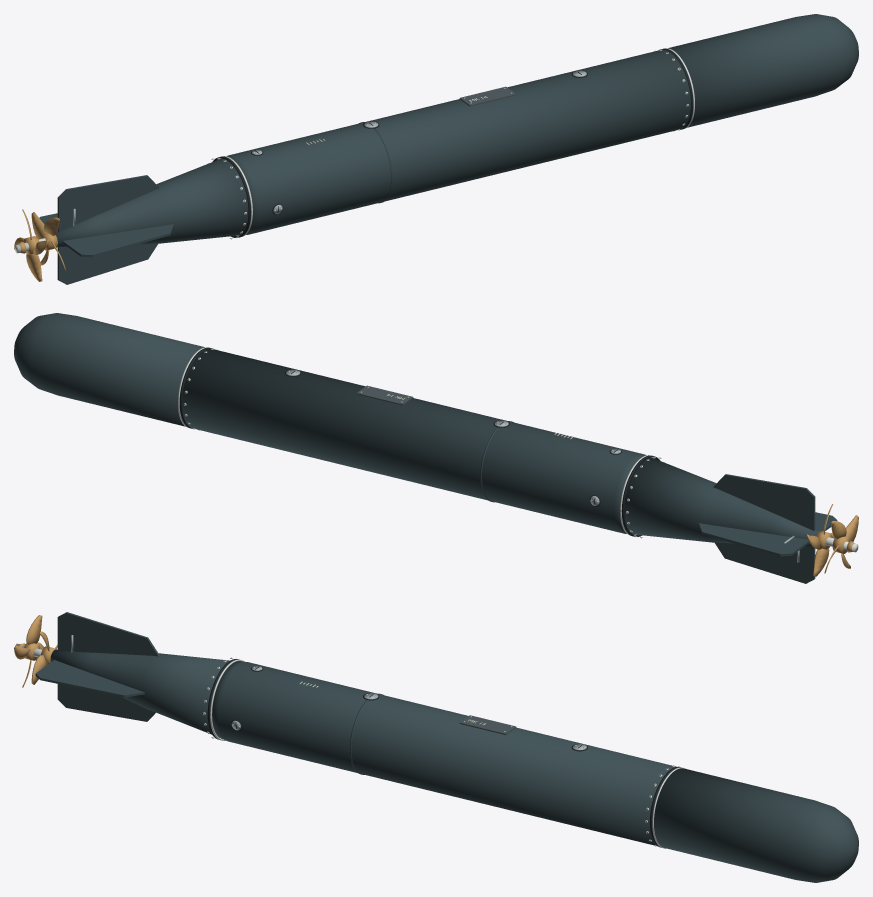
The picture shows the model from 3 angles, top to bottom: view 1: azimuth 30°, elevation 25°; view 2: azimuth 150°, elevation 25°; view 3: azimuth 330°, elevation 25°; orthographic projection.
Visible parts, largest first — view 1: Body_Sections.012_Torpedo_Navy_Graphite.002, Tail_Assembly.012_Torpedo_Navy_Graphite.002, Flush_Surface_Details.012_Torpedo_Recessed_Joints.002, Propeller_A.012_Torpedo_Propeller_Bronze.002, Propeller_B.012_Torpedo_Propeller_Bronze.002, Flush_Surface_Details.012_Torpedo_Machined_Edges.002, Flush_Surface_Details.012_Torpedo_Blackened_Steel.002; view 2: Body_Sections.012_Torpedo_Navy_Graphite.002, Tail_Assembly.012_Torpedo_Navy_Graphite.002, Flush_Surface_Details.012_Torpedo_Recessed_Joints.002, Propeller_B.012_Torpedo_Propeller_Bronze.002, Propeller_A.012_Torpedo_Propeller_Bronze.002, Flush_Surface_Details.012_Torpedo_Machined_Edges.002, Flush_Surface_Details.012_Torpedo_Blackened_Steel.002; view 3: Body_Sections.012_Torpedo_Navy_Graphite.002, Tail_Assembly.012_Torpedo_Navy_Graphite.002, Flush_Surface_Details.012_Torpedo_Recessed_Joints.002, Propeller_B.012_Torpedo_Propeller_Bronze.002, Flush_Surface_Details.012_Torpedo_Machined_Edges.002, Flush_Surface_Details.012_Torpedo_Blackened_Steel.002.
Part boxes in pixels (<box>): Body_Sections.012_Torpedo_Navy_Graphite.002: <box>56,14,858,247</box>; Tail_Assembly.012_Torpedo_Navy_Graphite.002: <box>39,175,173,284</box>; Flush_Surface_Details.012_Torpedo_Recessed_Joints.002: <box>212,48,693,239</box>; Propeller_A.012_Torpedo_Propeller_Bronze.002: <box>31,212,65,270</box>; Propeller_B.012_Torpedo_Propeller_Bronze.002: <box>14,209,48,281</box>; Flush_Surface_Details.012_Torpedo_Machined_Edges.002: <box>207,48,694,238</box>; Flush_Surface_Details.012_Torpedo_Blackened_Steel.002: <box>459,86,516,106</box>; Body_Sections.012_Torpedo_Navy_Graphite.002: <box>14,313,818,545</box>; Tail_Assembly.012_Torpedo_Navy_Graphite.002: <box>699,474,837,583</box>; Flush_Surface_Details.012_Torpedo_Recessed_Joints.002: <box>179,347,660,538</box>; Propeller_B.012_Torpedo_Propeller_Bronze.002: <box>824,515,858,573</box>; Propeller_A.012_Torpedo_Propeller_Bronze.002: <box>807,504,834,576</box>; Flush_Surface_Details.012_Torpedo_Machined_Edges.002: <box>178,347,665,537</box>; Flush_Surface_Details.012_Torpedo_Blackened_Steel.002: <box>356,385,413,405</box>; Body_Sections.012_Torpedo_Navy_Graphite.002: <box>50,649,858,882</box>; Tail_Assembly.012_Torpedo_Navy_Graphite.002: <box>35,612,159,721</box>; Flush_Surface_Details.012_Torpedo_Recessed_Joints.002: <box>204,657,680,847</box>; Propeller_B.012_Torpedo_Propeller_Bronze.002: <box>14,615,43,687</box>; Flush_Surface_Details.012_Torpedo_Machined_Edges.002: <box>203,658,685,848</box>; Flush_Surface_Details.012_Torpedo_Blackened_Steel.002: <box>459,715,516,734</box>.
Bounding box in the file's own units: 3.62 × 0.3917 × 0.3917.
